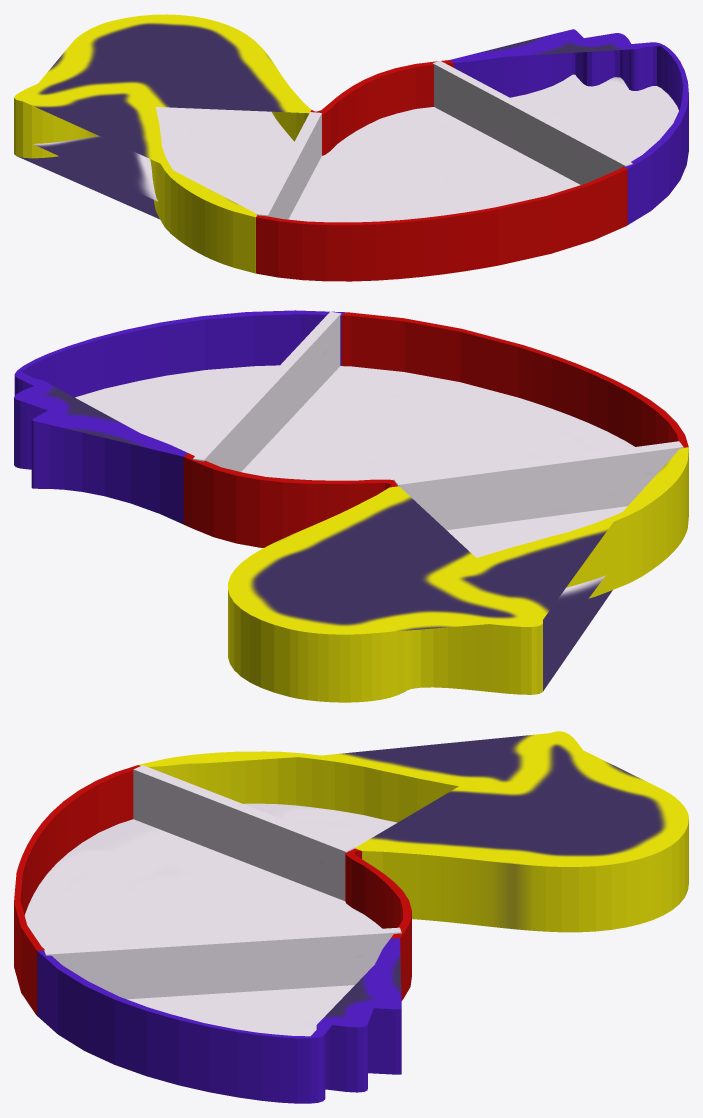
Rendered from Duck1.fbx.
3 views of the same model, one above another, from view 1: azimuth 30°, elevation 25°; view 2: azimuth 150°, elevation 25°; view 3: azimuth 270°, elevation 25° (orthographic). The views are drawn at different scales.
Parts seen in each view (by area): view 1: BezierCurve; view 2: BezierCurve; view 3: BezierCurve.
Part boxes in pixels (<box>): BezierCurve: <box>14,14,688,281</box>; BezierCurve: <box>14,310,688,702</box>; BezierCurve: <box>14,731,688,1103</box>.
Size of the model in its own units: 825 by 83.26 by 766.
Materials: 1 (1 with a texture image).
